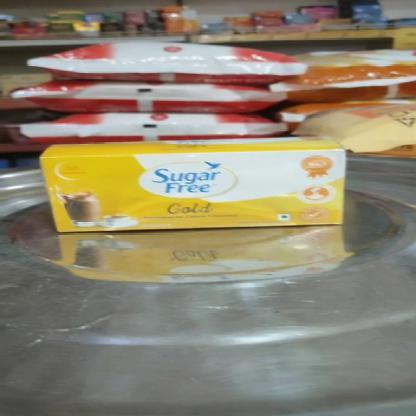SUGAR FREE GOLD SACHET 50: (50, 154, 352, 230)
